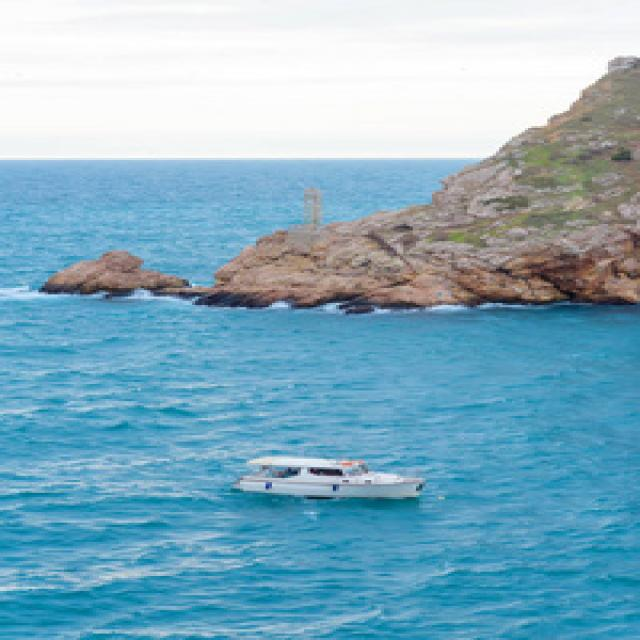houseboat: (228, 441, 428, 498)
